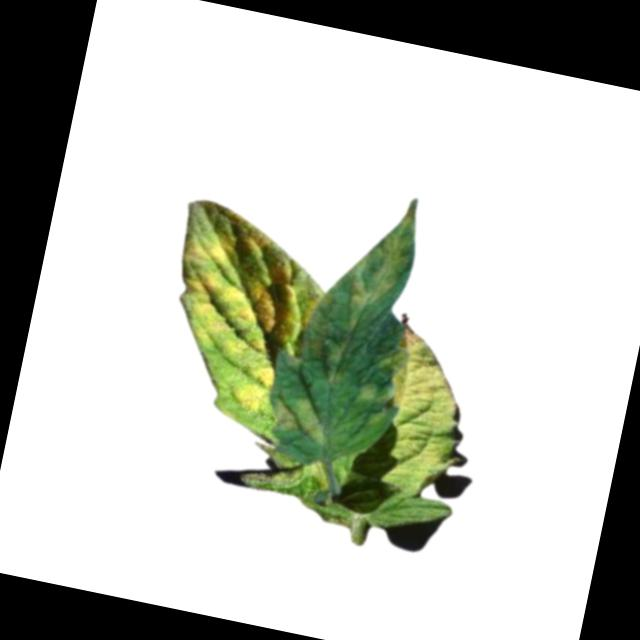Leaf_Mold: (162, 196, 334, 371), (368, 325, 478, 488), (341, 199, 422, 344), (271, 389, 342, 444), (228, 358, 278, 419), (319, 337, 352, 389)
